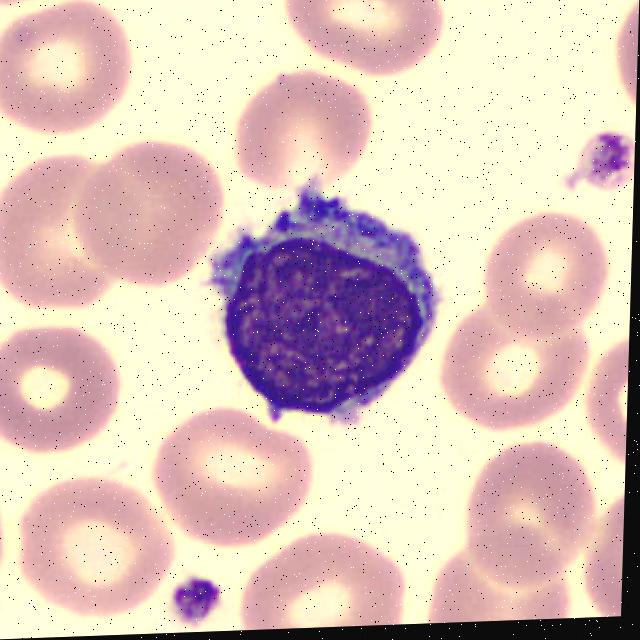lymphocyte: (219, 201, 450, 436)
platelets: (565, 128, 635, 195), (166, 574, 221, 633)
rbc: (13, 474, 178, 621), (65, 135, 226, 281), (152, 416, 316, 552), (463, 432, 601, 587), (440, 291, 585, 431), (240, 531, 413, 630), (482, 208, 612, 338), (0, 4, 127, 137), (0, 153, 108, 309), (0, 319, 118, 460), (237, 74, 370, 190), (273, 0, 442, 85), (427, 549, 575, 623), (580, 335, 629, 472), (576, 483, 625, 618), (610, 0, 640, 116), (0, 475, 3, 594)
